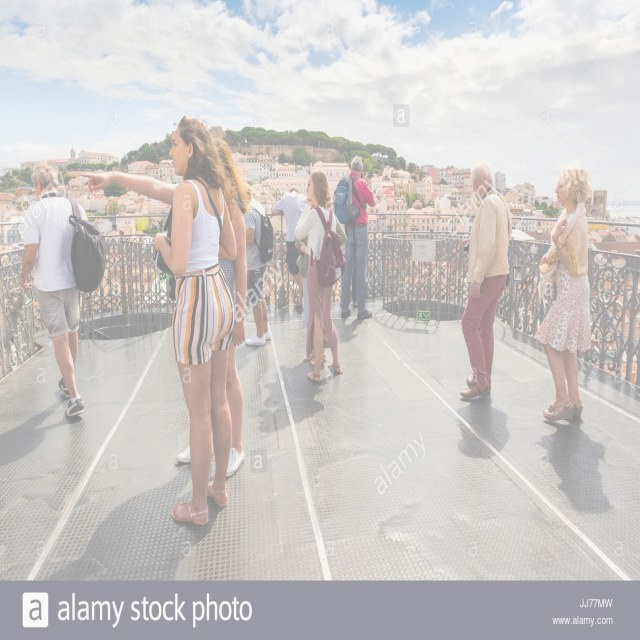pessoa: (78, 137, 250, 480), (152, 115, 240, 529), (16, 162, 108, 420), (535, 165, 593, 423), (460, 163, 514, 402), (294, 169, 342, 383), (330, 155, 376, 323), (242, 181, 274, 348), (270, 184, 308, 314), (294, 184, 317, 330), (338, 231, 368, 309)
